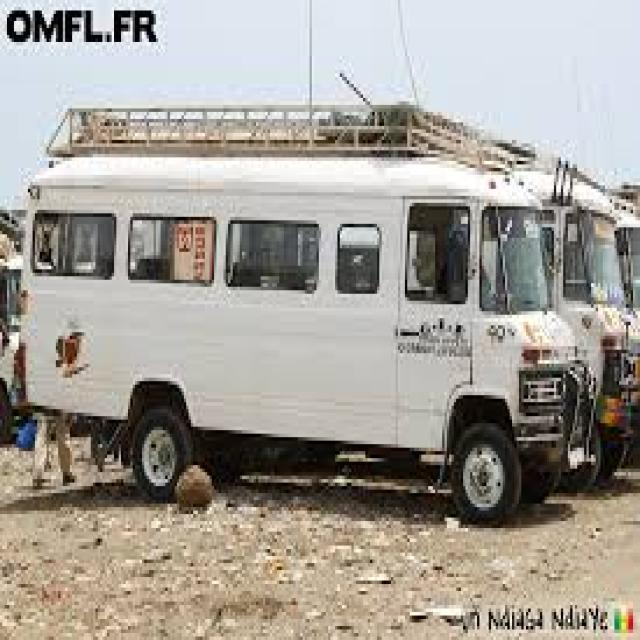ndiaga ndiaye: (25, 110, 594, 521)
